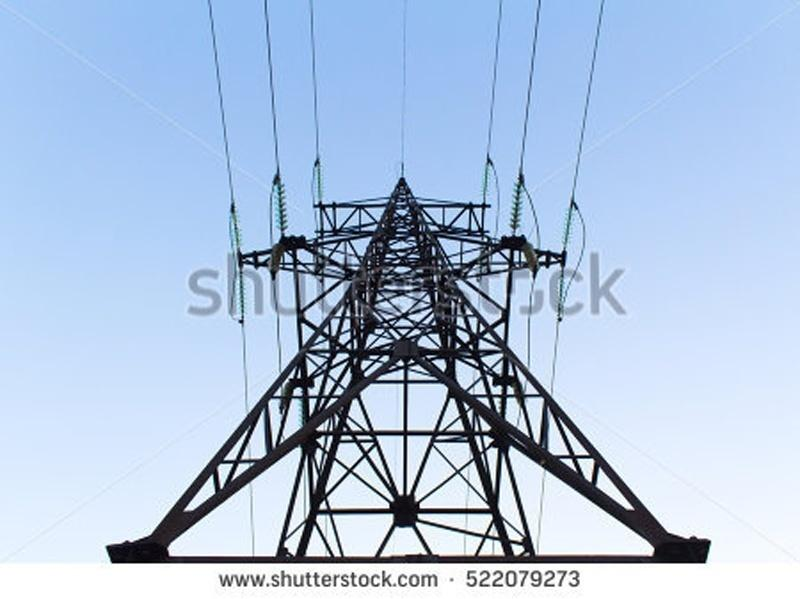power_tower: (151, 137, 683, 553)
